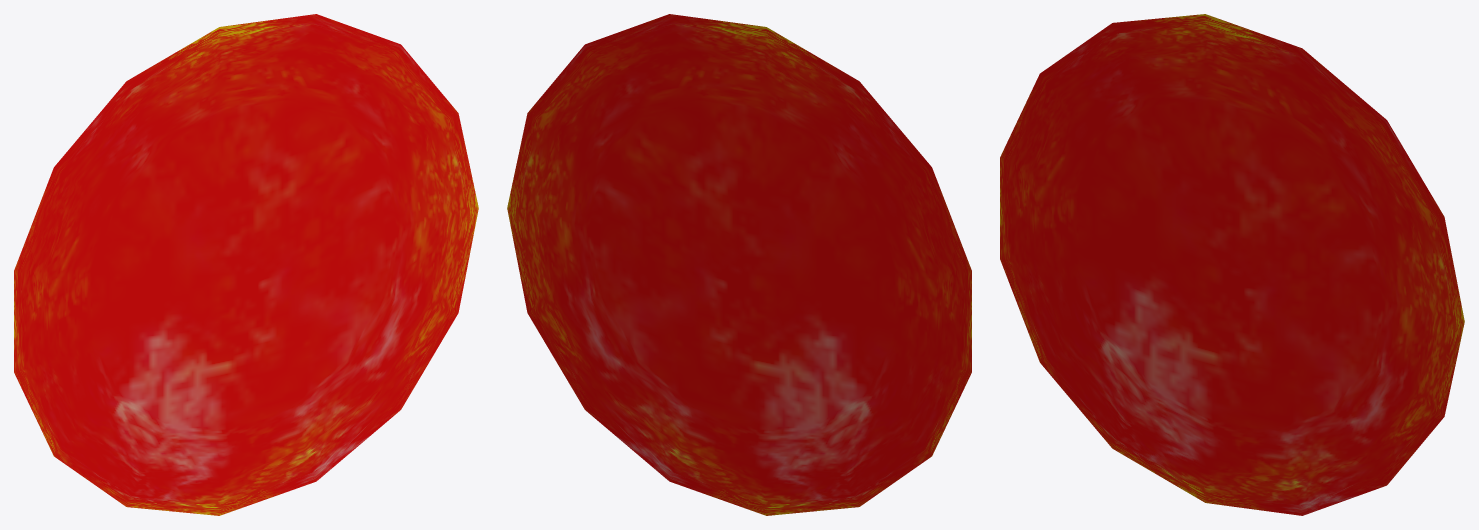
The model's file is Tripwire Shield.glb.
3 renders of one model, left to right at view 1: azimuth 30°, elevation 25°; view 2: azimuth 150°, elevation 25°; view 3: azimuth 330°, elevation 25°, orthographic.
Parts seen in each view (by area): view 1: Shield; view 2: Shield; view 3: Shield.
Boxes of the visible parts, bbox=[...] form: Shield: bbox=[14, 14, 478, 515]; Shield: bbox=[507, 14, 971, 515]; Shield: bbox=[1000, 14, 1464, 515].
Bounding box in the file's own units: 2.65 × 2.67 × 6.3e-06.
1 material, 1 textured.
